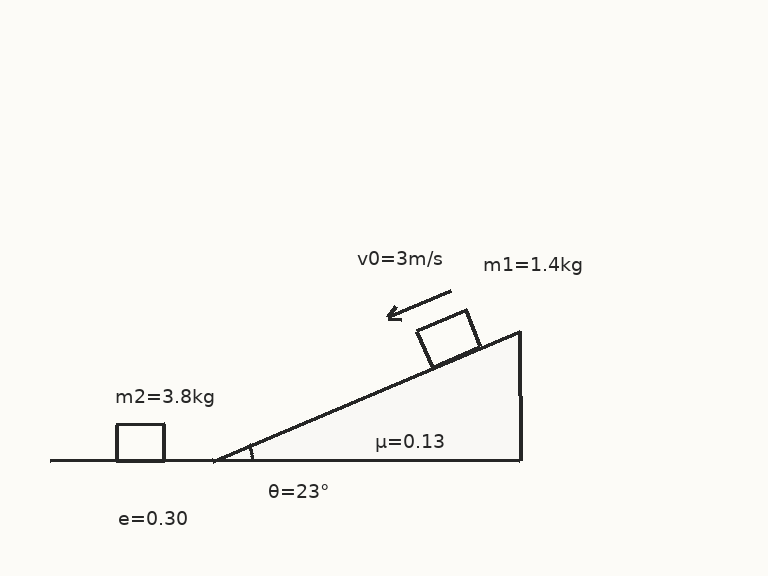block: (414, 308, 483, 369), (114, 422, 166, 462)
ramp: (210, 328, 521, 462)
